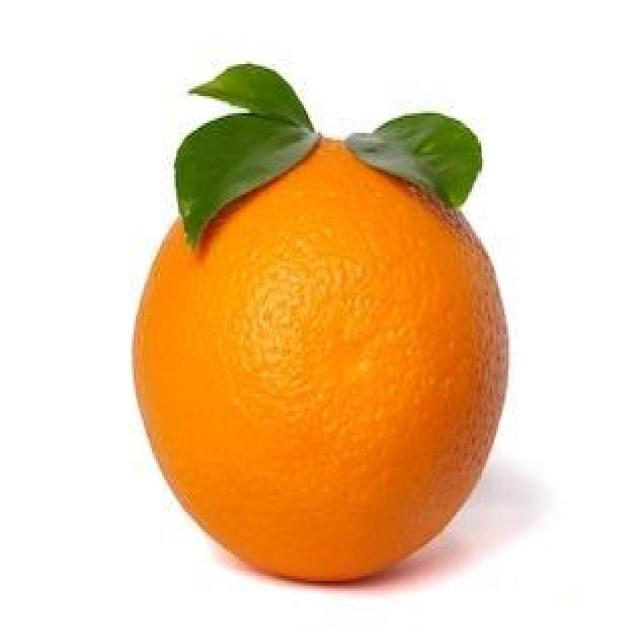orange: (132, 132, 511, 580)
